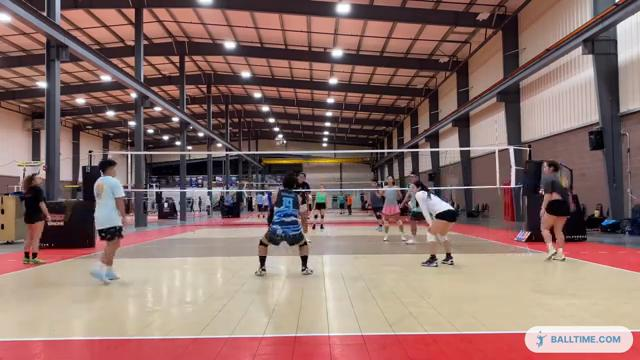ricezione: (249, 171, 317, 277)
